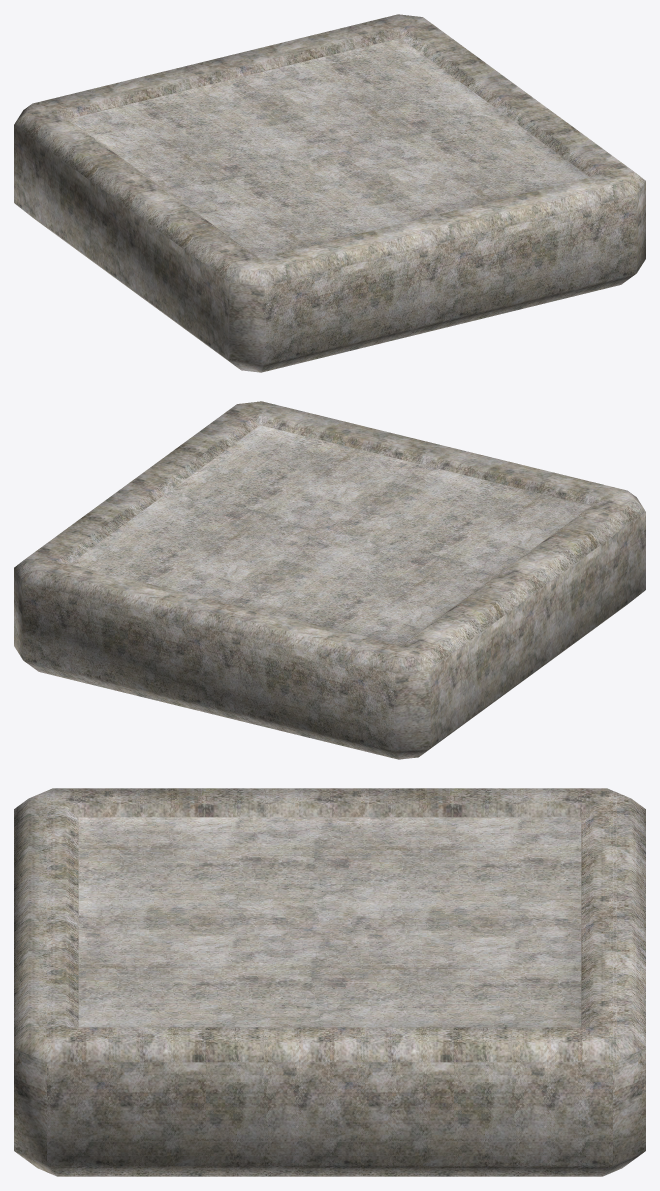
The model's file is RockTowerStepB.fbx.
The picture shows the model from 3 angles, top to bottom: view 1: azimuth 30°, elevation 25°; view 2: azimuth 150°, elevation 25°; view 3: azimuth 270°, elevation 25°; orthographic projection. The views are drawn at different scales.
Parts seen in each view (by area): view 1: Plane; view 2: Plane; view 3: Plane.
Boxes of the visible parts, box(x1,y1,x2,y2) form: Plane: box(14, 14, 645, 372); Plane: box(14, 401, 645, 759); Plane: box(14, 788, 645, 1176).
Size of the model in its own units: 75200 by 18006 by 75200.
Materials: 2 (2 with a texture image).
